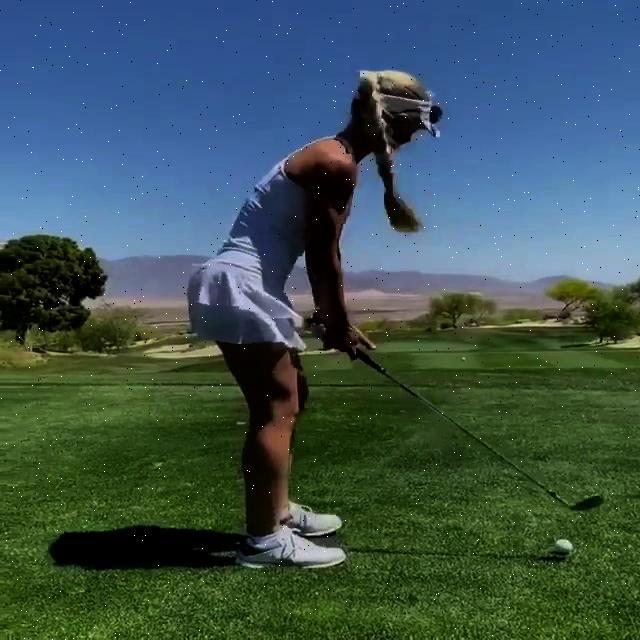golf ball: (553, 539, 573, 554)
golf club-handle: (305, 318, 604, 509)
golf club-head: (576, 495, 604, 508)
